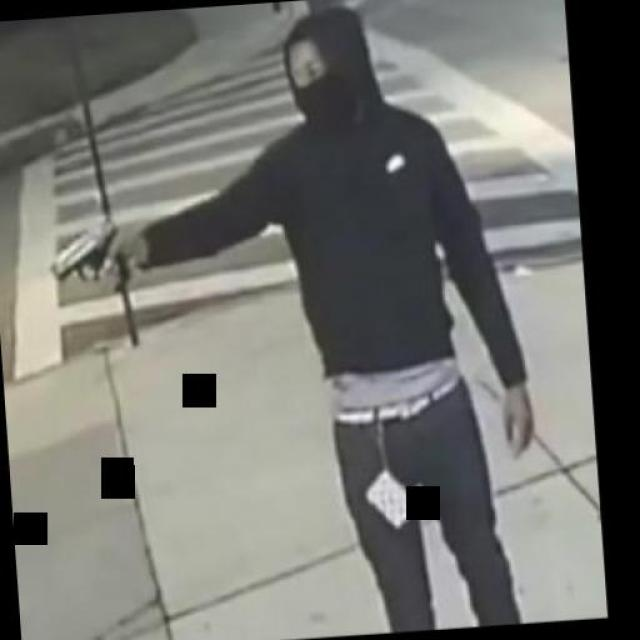gun: (45, 218, 135, 292)
